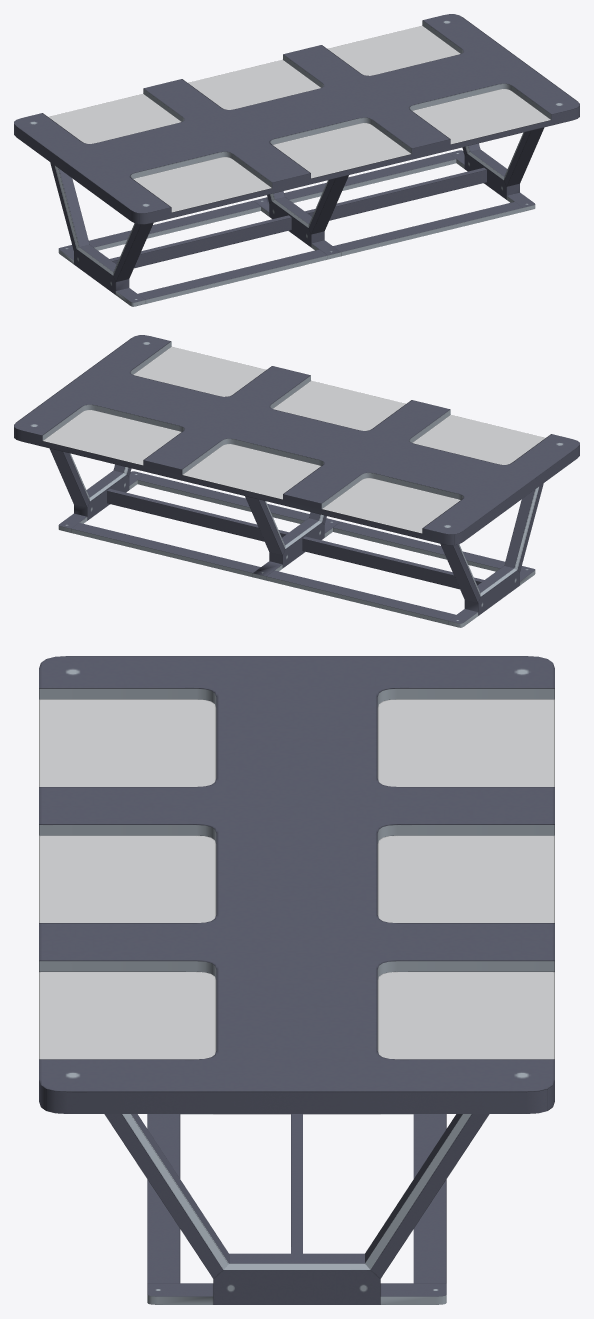
File: Table_01.FBX
3 views of the same model, one above another, from view 1: azimuth 30°, elevation 25°; view 2: azimuth 150°, elevation 25°; view 3: azimuth 270°, elevation 25° (orthographic). The views are drawn at different scales.
Parts seen in each view (by area): view 1: Table_01; view 2: Table_01; view 3: Table_01.
Part boxes in pixels (x1,y1,x2,y2): Table_01: (14, 14, 579, 306); Table_01: (14, 335, 579, 627); Table_01: (39, 656, 554, 1304).
Size of the model in its own units: 4 by 1 by 2.
